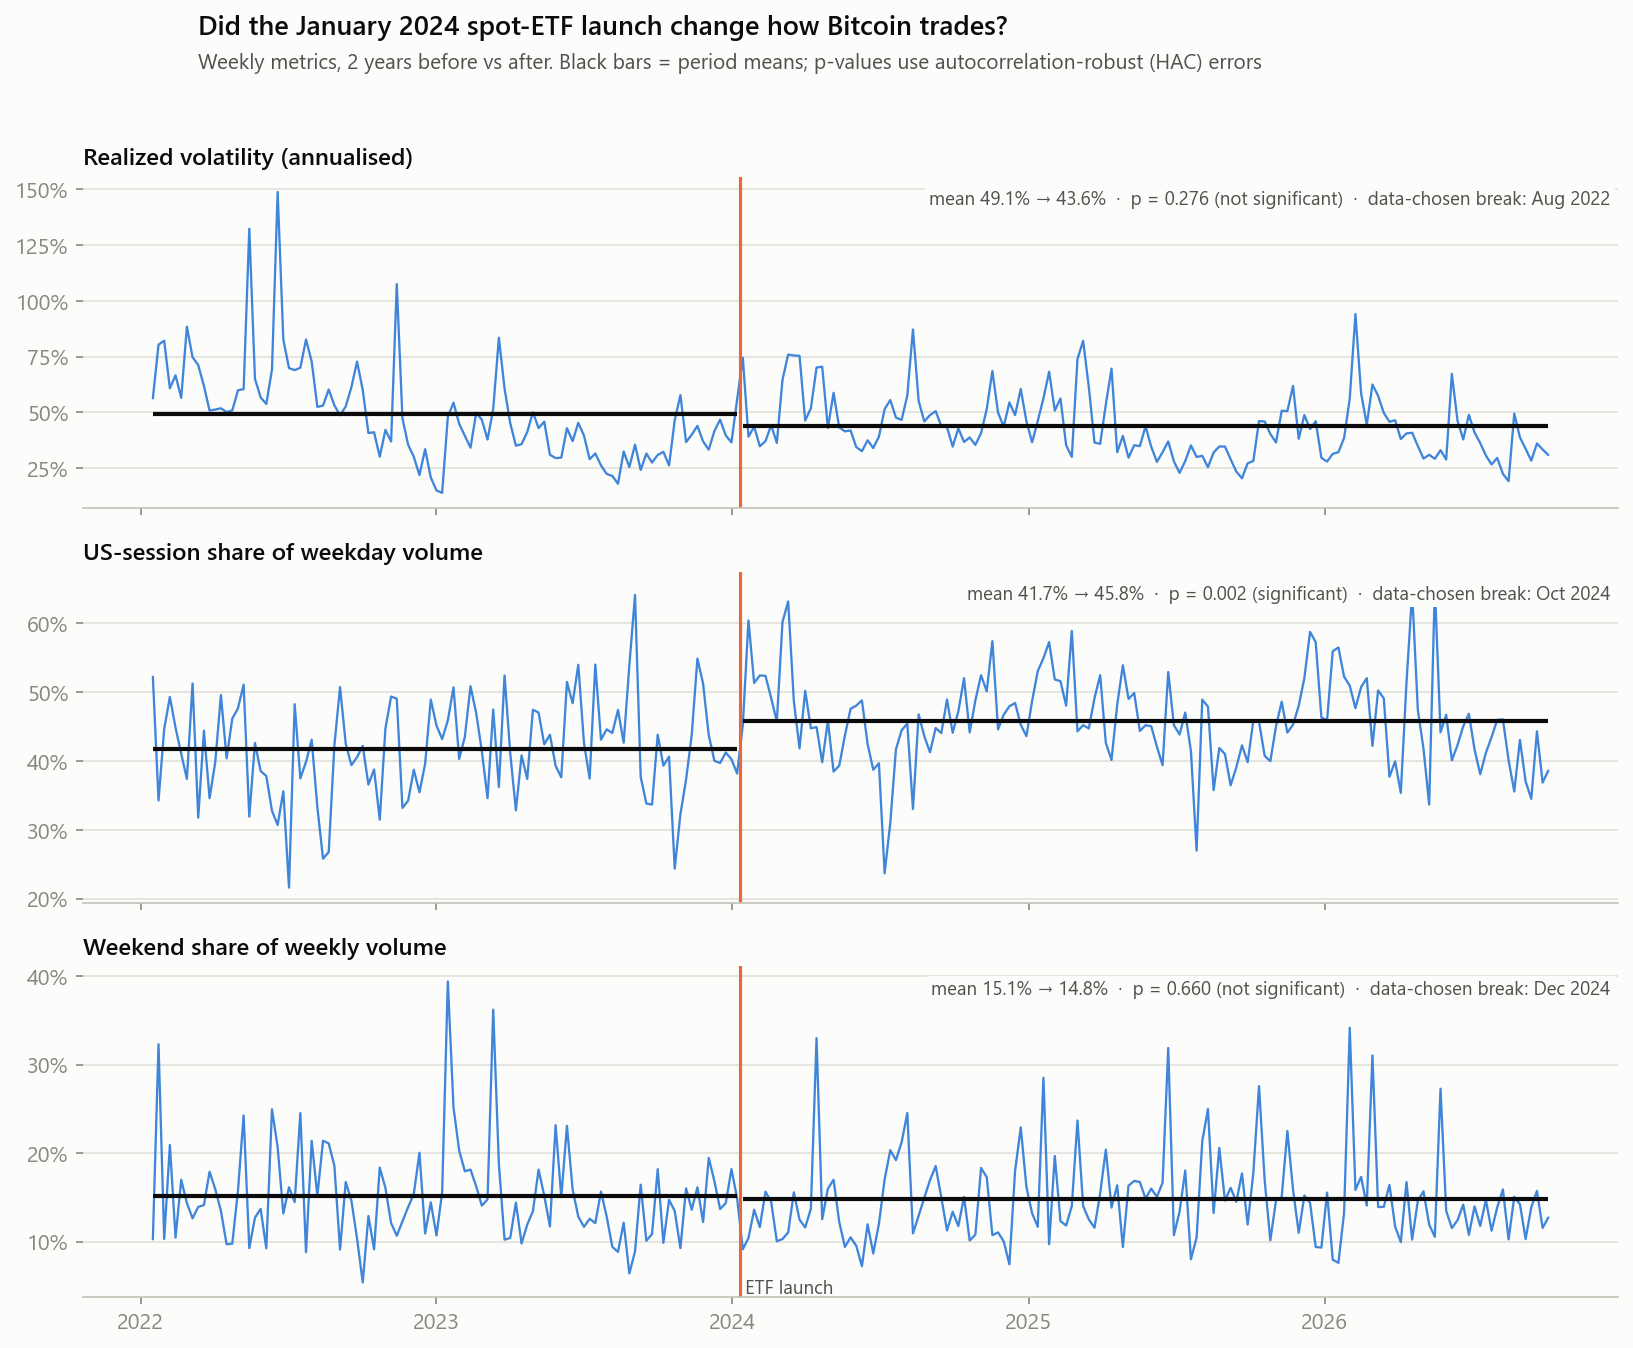

The page's visual inventory and layout, read from the dashboard file:
{"tool":"tableau","page":{"name":"When the Market Trades","canvas":[1200,900],"ordinal":2},"visuals":[{"type":"text","box":[20,15,800,50]},{"type":"legend","title":"Trading Heatmap","param":"[federated.07von8s19iv39b1g57e7q0752bgh].[sum:Volume Index:qk]","box":[990,20,190,50]},{"type":"worksheet","title":"Trading Heatmap","mark":"Automatic","rows":["Weekday"],"cols":["Hour UTC"],"box":[20,70,1160,420]},{"type":"legend","title":"ETF US Session","param":"[federated.0d4wu4j0ljdw2i11j7wa21j6cd6b].[none:Period:nk]","box":[1060,508,140,64]},{"type":"worksheet","title":"Weekday vs Weekend","mark":"Automatic","rows":["Volume Index"],"cols":["Day Type"],"box":[20,510,360,370]},{"type":"worksheet","title":"ETF US Session","mark":"Automatic","cols":["Week"],"box":[390,510,790,370]}]}

Visuals, with their boxes on the page's 1200x900 design canvas (x1, y1, x2, y2). These are canvas units, not pixel positions in the 1633x1348 screenshot, which may show the page scaled, cropped or inside an application window:
text: {"left": 20, "top": 15, "right": 820, "bottom": 65}
"Trading Heatmap" legend: {"left": 990, "top": 20, "right": 1180, "bottom": 70}
"Trading Heatmap" worksheet: {"left": 20, "top": 70, "right": 1180, "bottom": 490}
"ETF US Session" legend: {"left": 1060, "top": 508, "right": 1200, "bottom": 572}
"Weekday vs Weekend" worksheet: {"left": 20, "top": 510, "right": 380, "bottom": 880}
"ETF US Session" worksheet: {"left": 390, "top": 510, "right": 1180, "bottom": 880}
